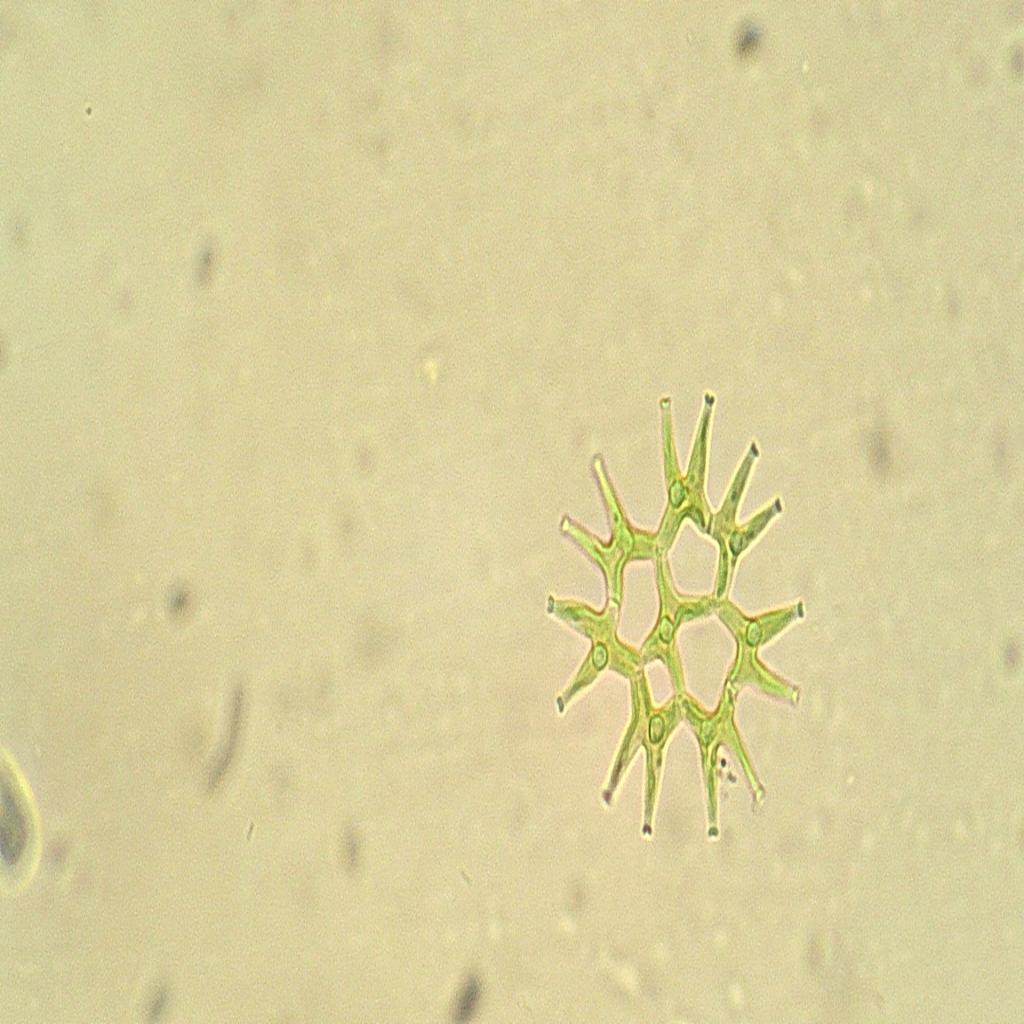Pediastrum_1T: (530, 360, 818, 860)
